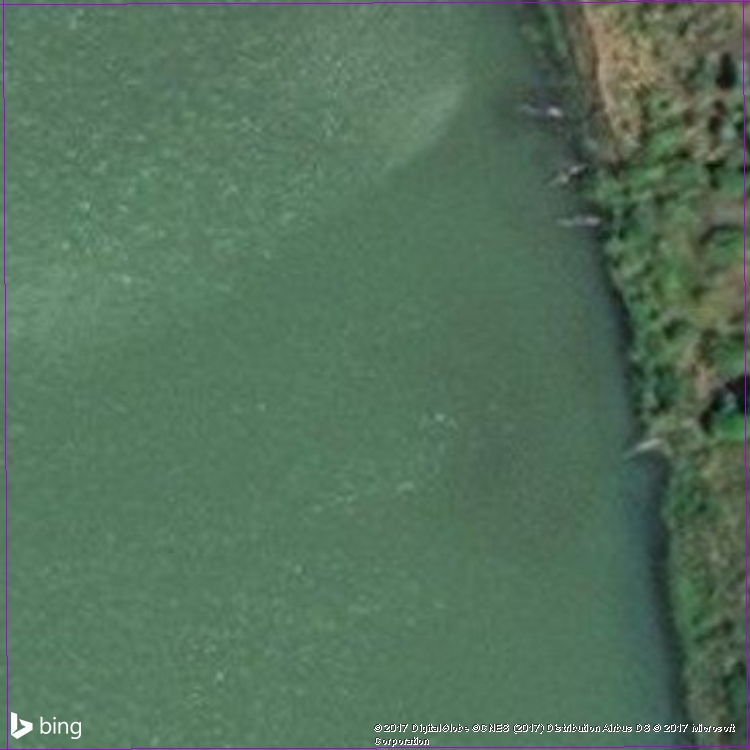boat: (532, 156, 599, 196), (539, 206, 609, 237), (504, 98, 577, 127), (617, 430, 675, 465)
